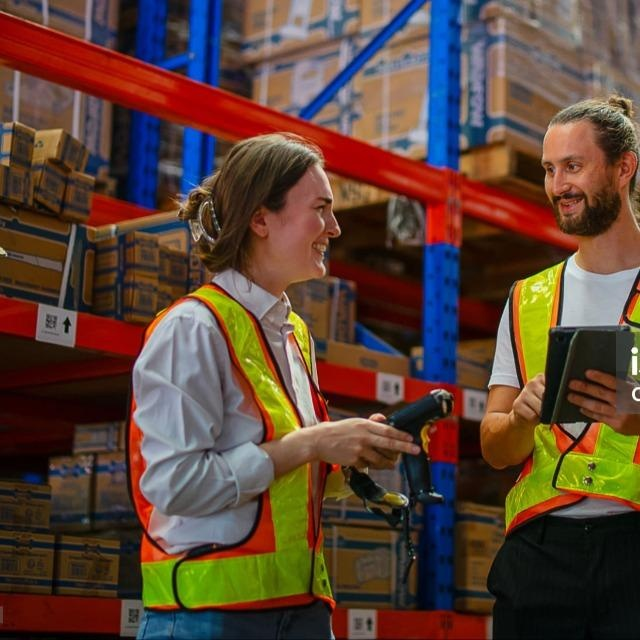Con_Chaleco: (126, 274, 336, 609), (498, 244, 640, 528)
Sin_Casco_Mascarrilla: (190, 131, 343, 287), (538, 98, 640, 238)
